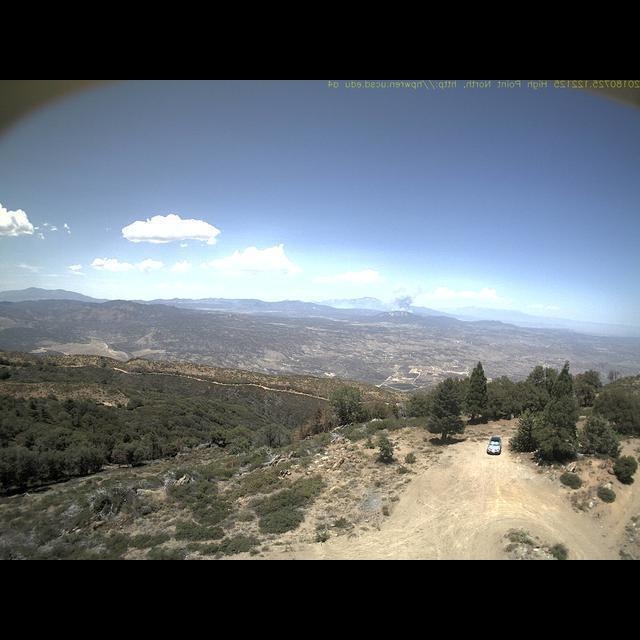Smoke: (382, 287, 425, 313)
